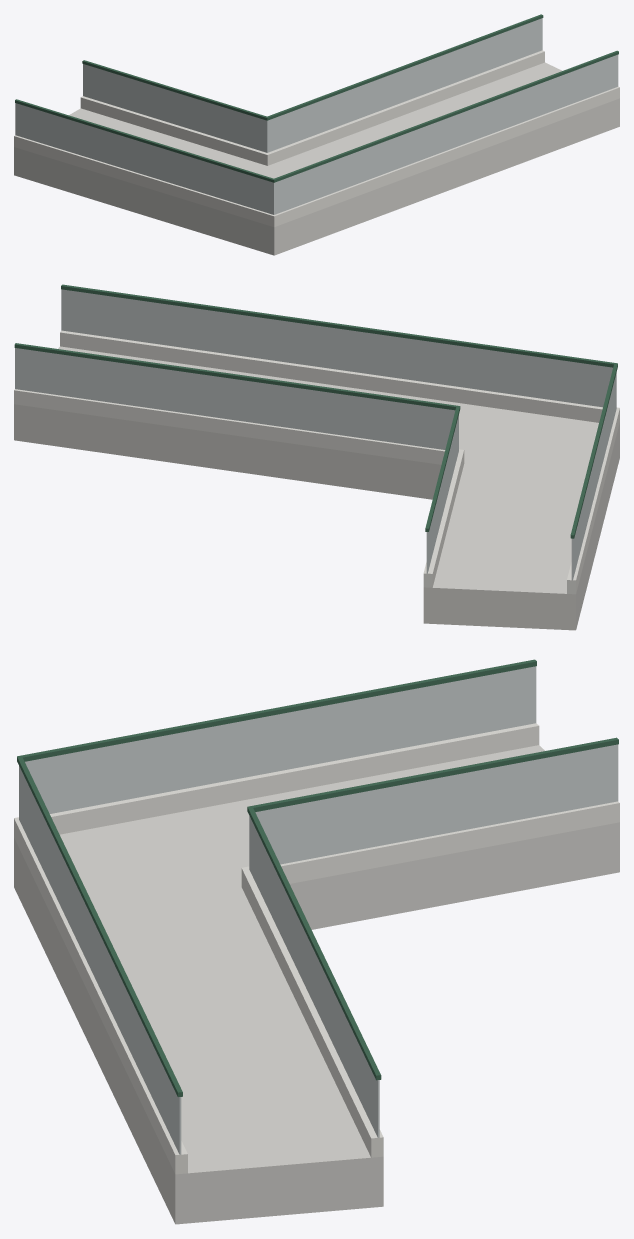
3 renders of one model, top to bottom at view 1: azimuth 30°, elevation 25°; view 2: azimuth 150°, elevation 25°; view 3: azimuth 270°, elevation 25°, orthographic. The views are drawn at different scales.
Parts seen in each view (by area): view 1: bridgeZ2A__glass, bridgeZ2A__deck, bridgeZ2A__parapet, bridgeZ2A__rail; view 2: bridgeZ2A__deck, bridgeZ2A__glass, bridgeZ2A__parapet, bridgeZ2A__rail; view 3: bridgeZ2A__deck, bridgeZ2A__glass, bridgeZ2A__parapet, bridgeZ2A__rail.
Boxes of the visible parts, x1=… form: bridgeZ2A__glass: x1=15, y1=18, x2=618, y2=214; bridgeZ2A__deck: x1=14, y1=62, x2=619, y2=255; bridgeZ2A__parapet: x1=14, y1=50, x2=619, y2=227; bridgeZ2A__rail: x1=15, y1=14, x2=618, y2=182; bridgeZ2A__deck: x1=14, y1=346, x2=619, y2=630; bridgeZ2A__glass: x1=15, y1=289, x2=616, y2=580; bridgeZ2A__parapet: x1=14, y1=330, x2=619, y2=594; bridgeZ2A__rail: x1=14, y1=284, x2=617, y2=538; bridgeZ2A__deck: x1=14, y1=745, x2=619, y2=1224; bridgeZ2A__glass: x1=19, y1=666, x2=618, y2=1154; bridgeZ2A__parapet: x1=14, y1=723, x2=619, y2=1174; bridgeZ2A__rail: x1=17, y1=659, x2=618, y2=1096.
Bounding box in the file's own units: 12.09 × 1.71 × 7.13.
